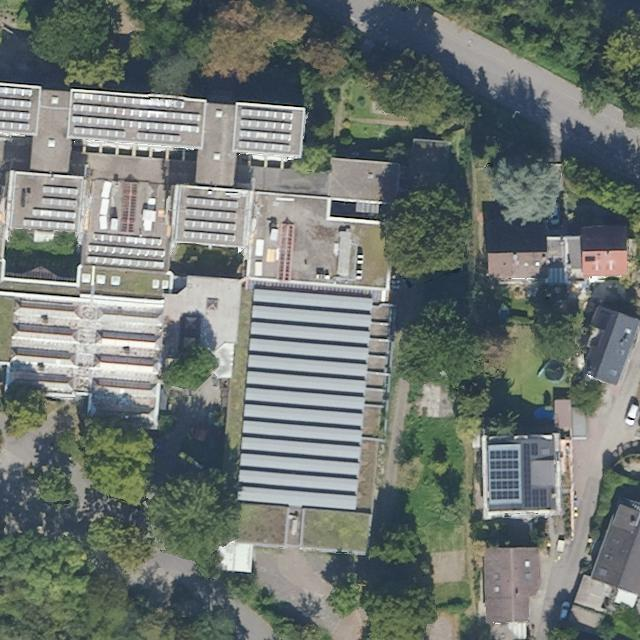PV: (71, 92, 203, 144), (84, 231, 168, 271), (235, 103, 297, 157), (20, 183, 80, 235), (181, 195, 241, 246), (0, 83, 38, 136), (489, 446, 521, 504), (523, 442, 549, 510)
